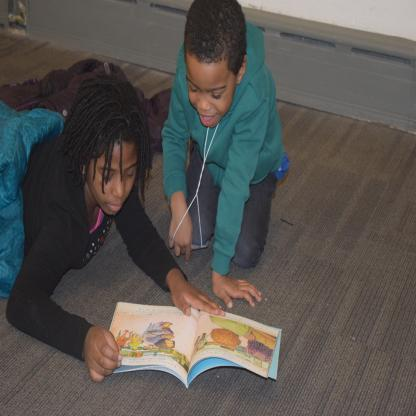book: (110, 300, 282, 387)
